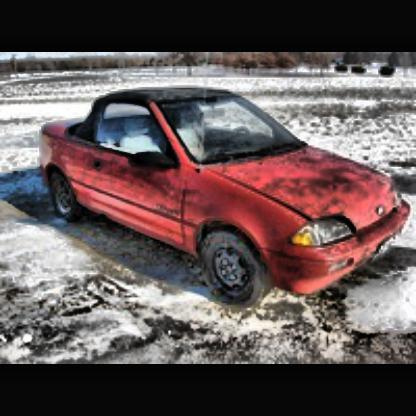Geo Metro Convertible 1993: (36, 84, 416, 314)
